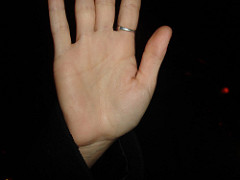palm: (54, 43, 148, 132)
